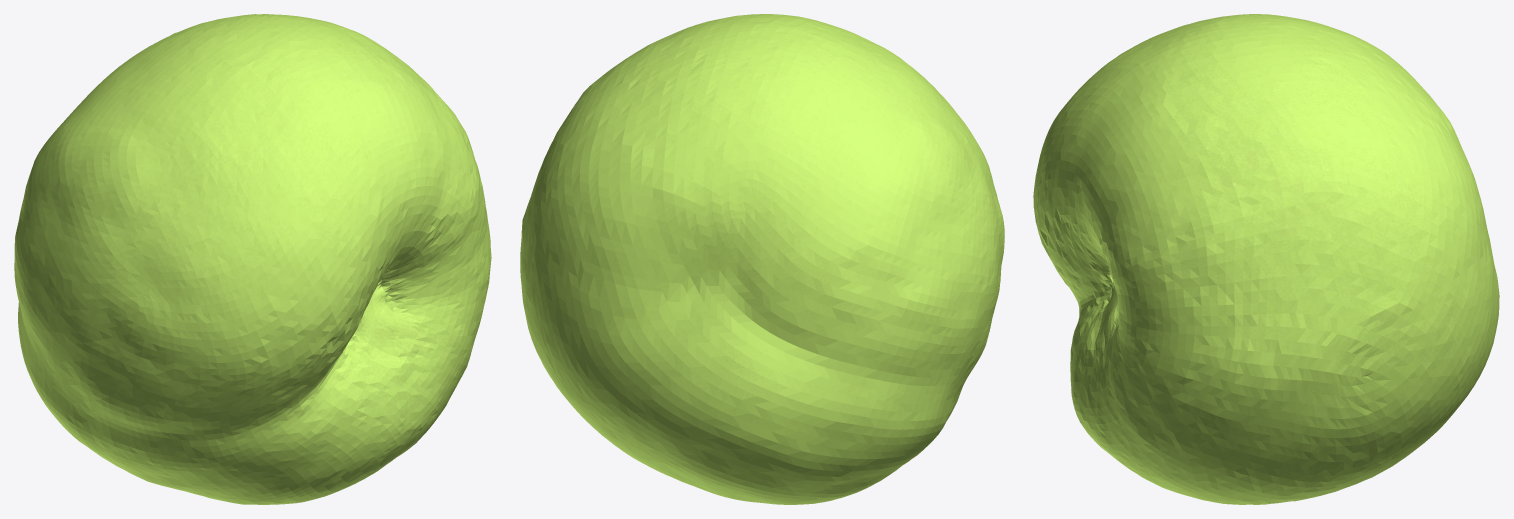
The model's file is shine_muscat.obj.
3 renders of one model, left to right at view 1: azimuth 30°, elevation 25°; view 2: azimuth 150°, elevation 25°; view 3: azimuth 270°, elevation 25°, orthographic. The views are drawn at different scales.
Parts seen in each view (by area): view 1: fruit; view 2: fruit; view 3: fruit.
Part boxes in pixels (x1,y1,x2,y2): fruit: (14,14,491,504); fruit: (520,14,1004,504); fruit: (1033,14,1499,504).
Size of the model in its own units: 1.61 by 1.59 by 1.5.
